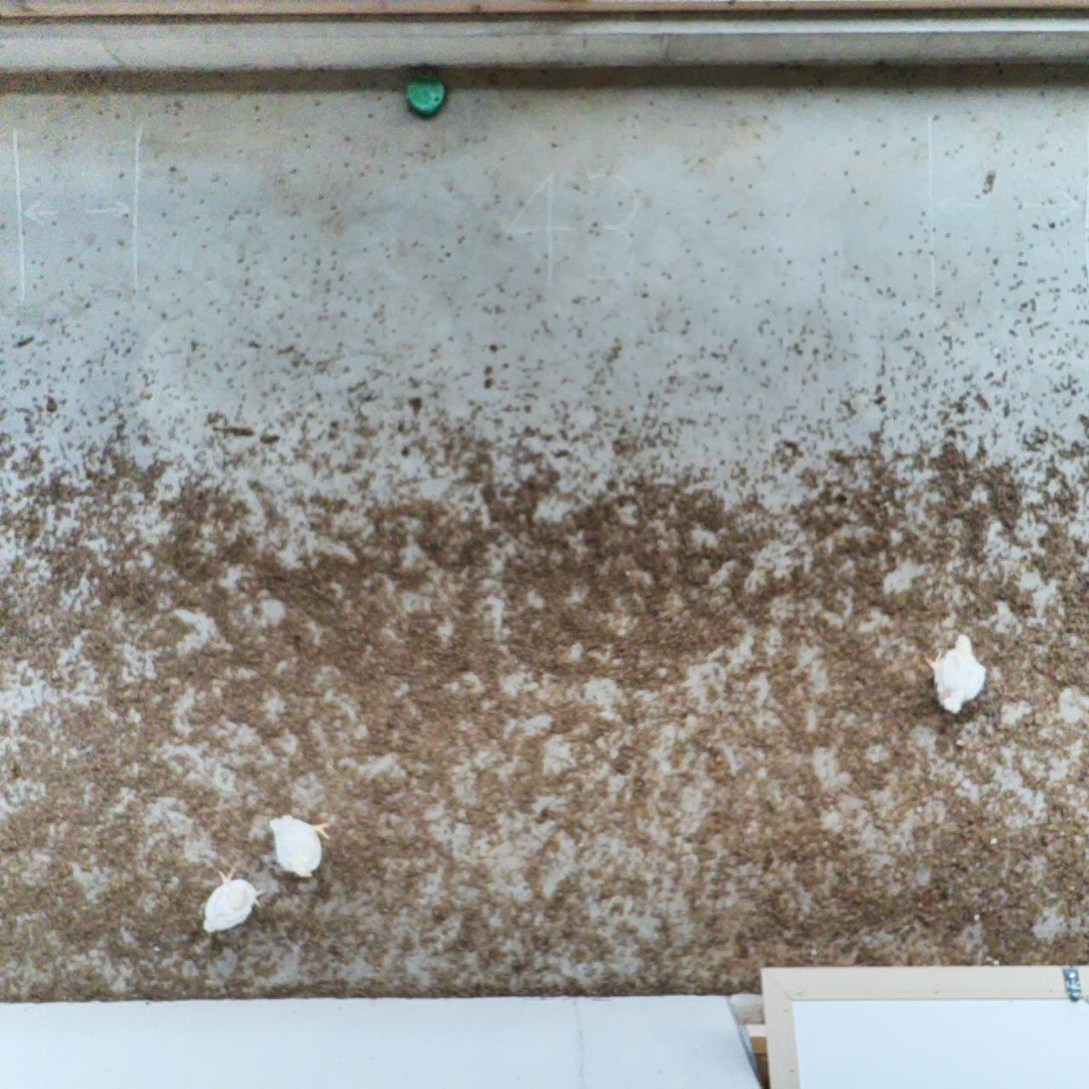chicken: (925, 631, 990, 718), (201, 864, 267, 936), (267, 811, 333, 879)
